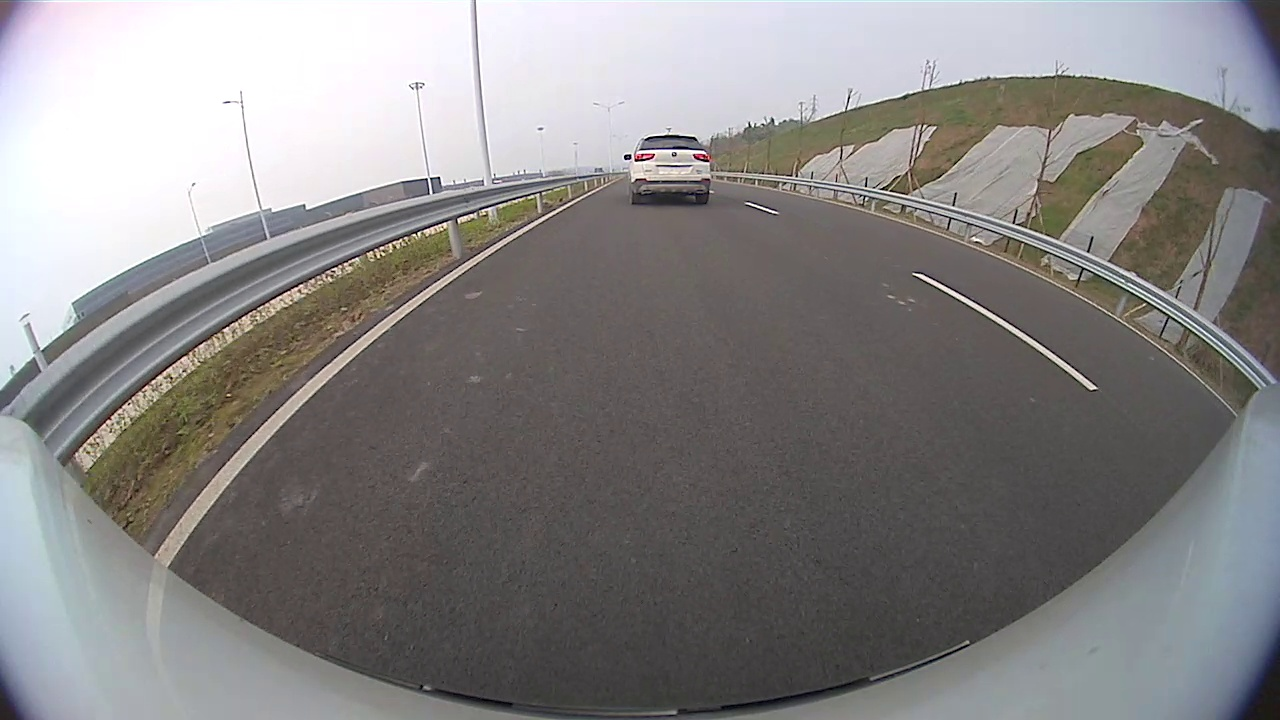car: (624, 133, 712, 206)
